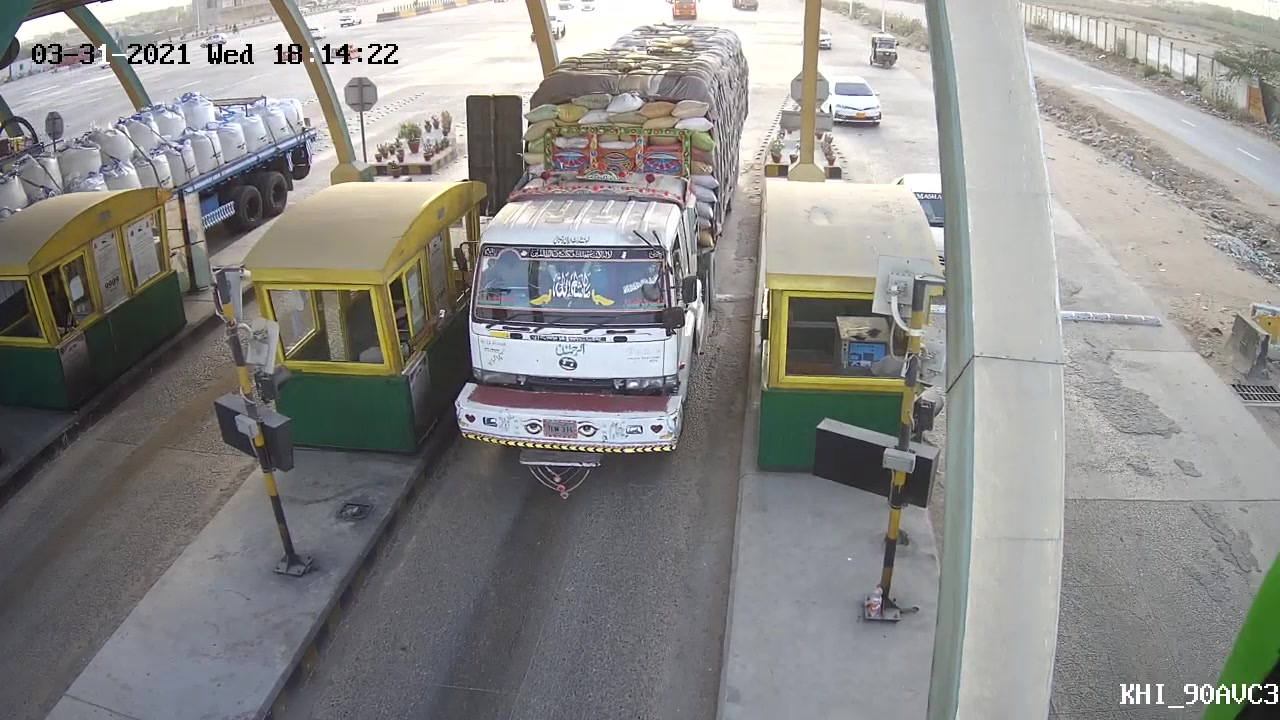F6: (445, 73, 736, 504)
